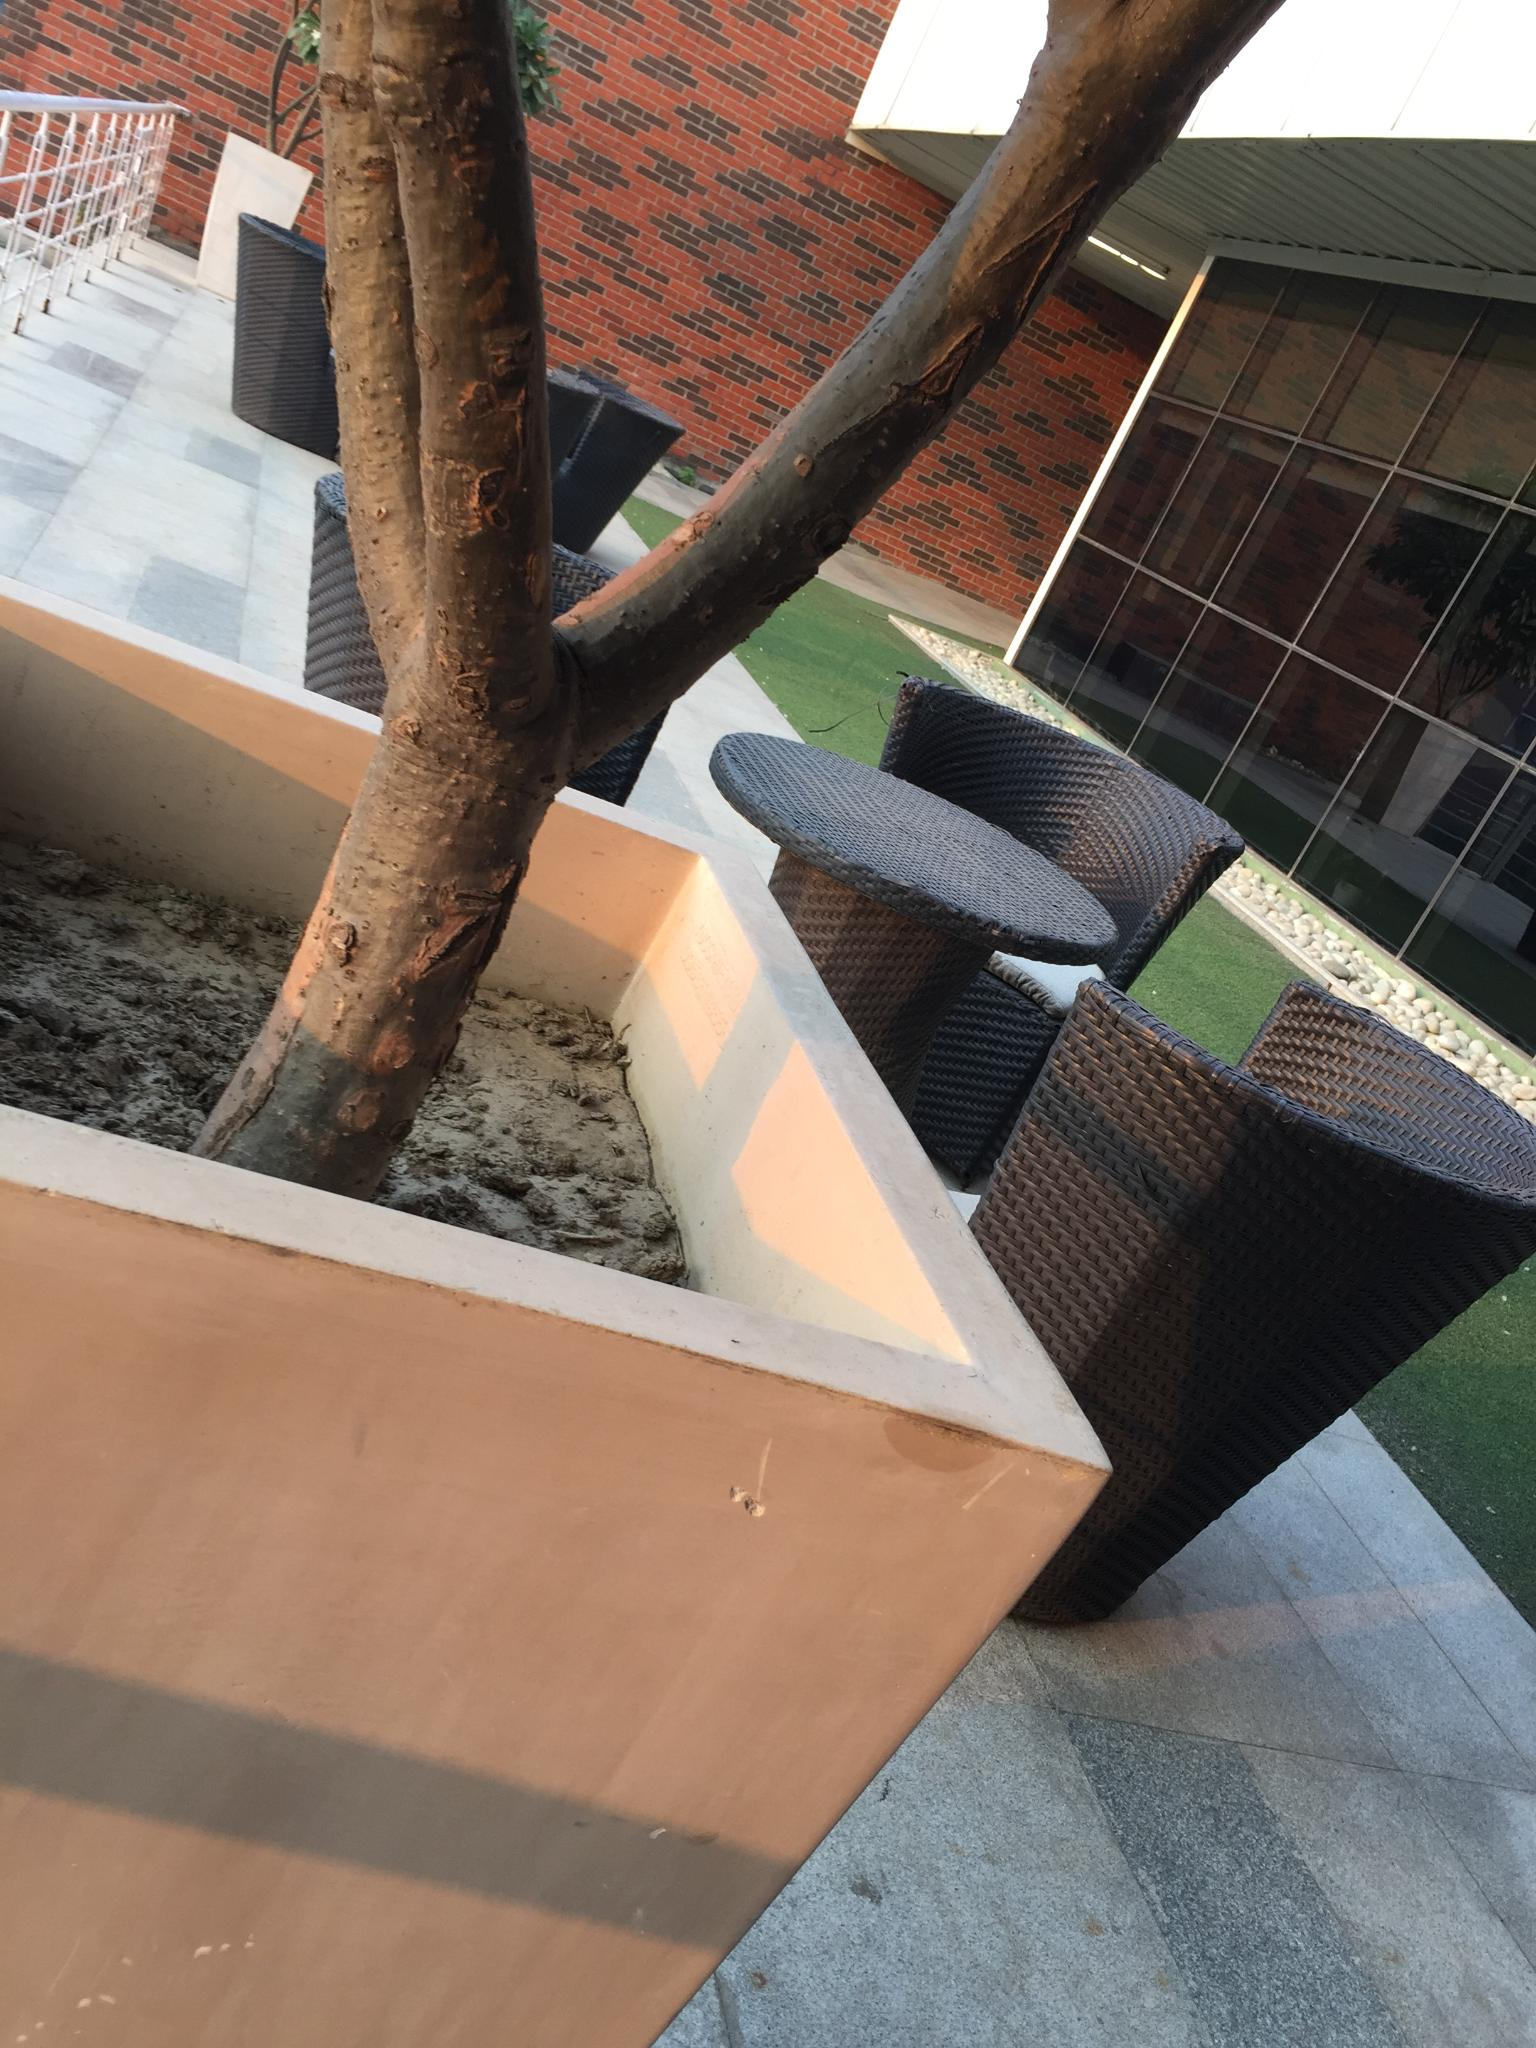chair: (963, 976, 1534, 1627), (708, 671, 1246, 1193), (308, 455, 670, 866), (237, 202, 389, 472), (591, 342, 673, 566)
